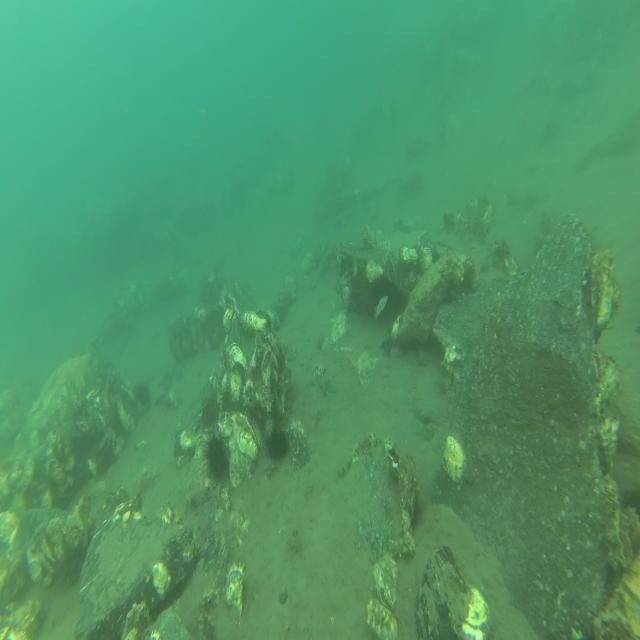echinus: (201, 427, 230, 484), (266, 423, 289, 462), (370, 269, 395, 303), (617, 483, 640, 516), (135, 384, 151, 407)
